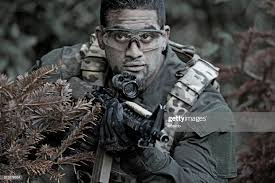Indian_Male: (101, 1, 175, 88)
